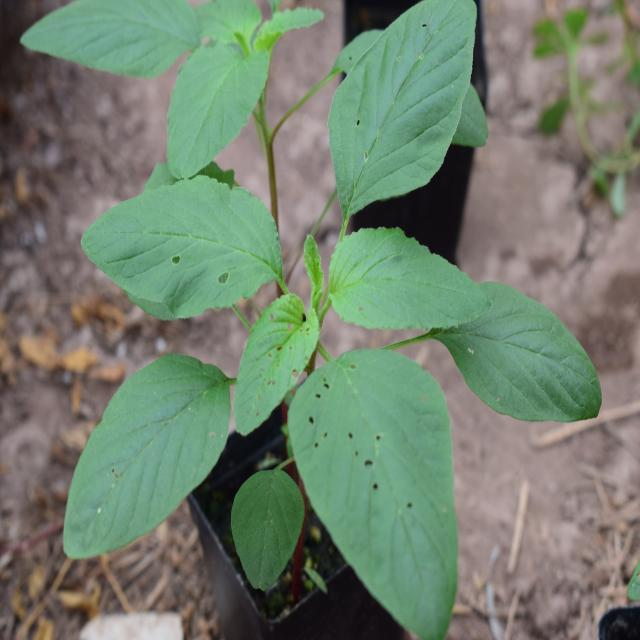pigweed: (91, 40, 536, 590)
